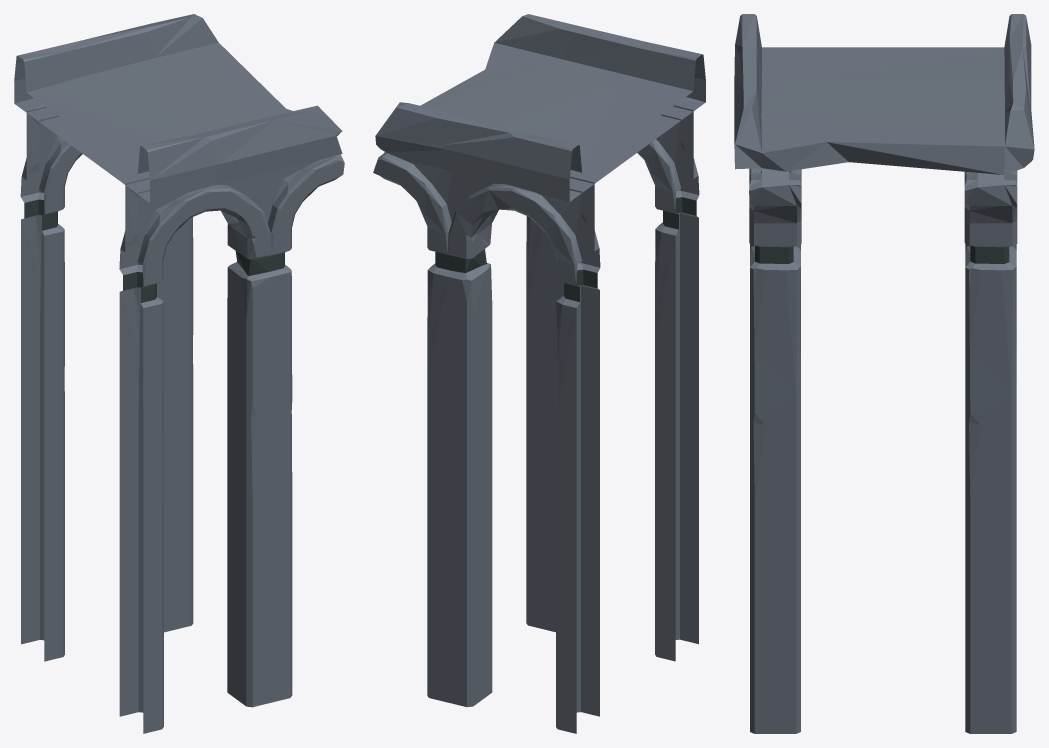
Rendered from Bridge_End.fbx.
3 views of the same model, side by side, from view 1: azimuth 30°, elevation 25°; view 2: azimuth 150°, elevation 25°; view 3: azimuth 270°, elevation 25° (orthographic). The views are drawn at different scales.
Visible parts, largest first — view 1: Bridge_End; view 2: Bridge_End; view 3: Bridge_End.
Part boxes in pixels (box(x1,y1,x2,y2)): Bridge_End: box(14, 14, 344, 733); Bridge_End: box(373, 14, 705, 733); Bridge_End: box(734, 14, 1034, 733).
Bounding box in the file's own units: 474 × 1313 × 557.
